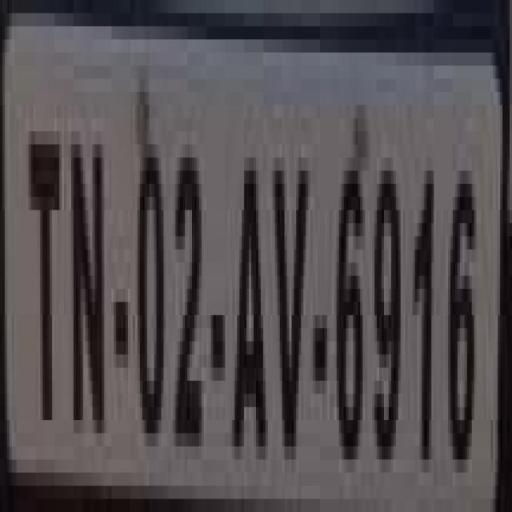number plate: (23, 13, 512, 511)
